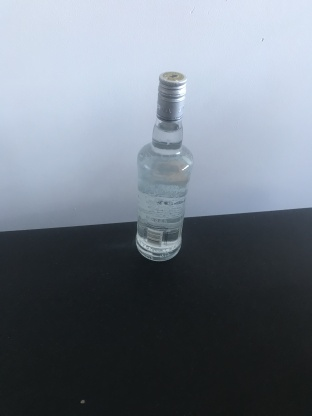nakretka: (155, 69, 187, 123)
